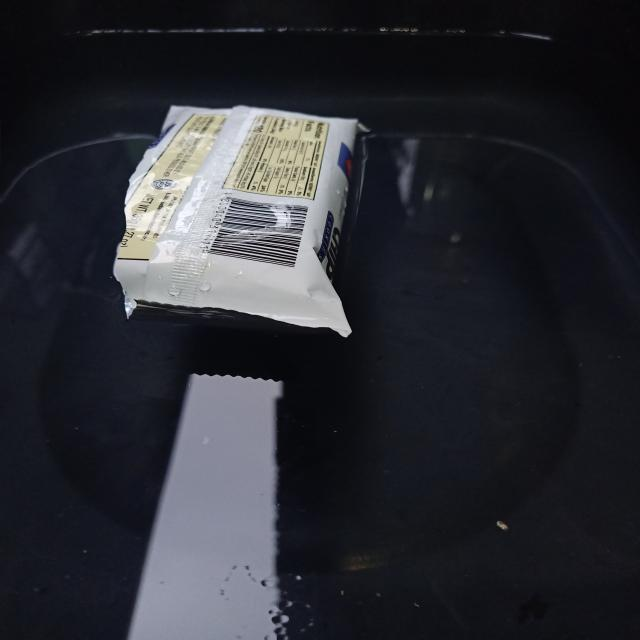Plastic Wrapper: (111, 90, 374, 344)
